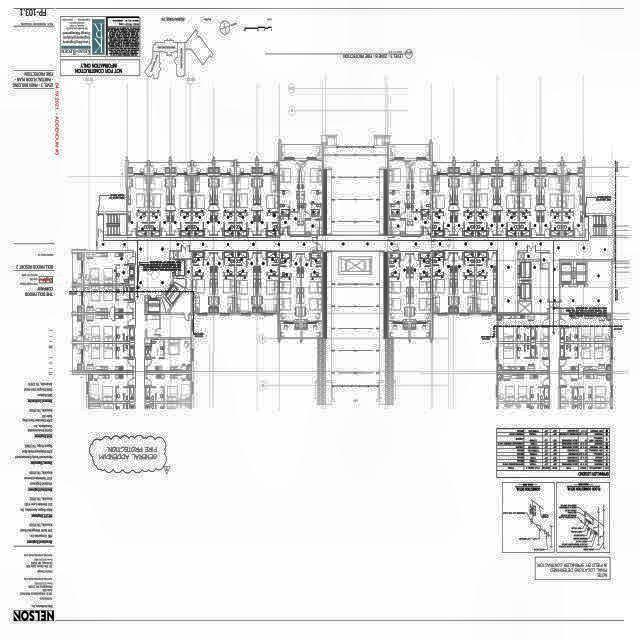room: (84, 252, 133, 284), (147, 339, 192, 370), (83, 315, 133, 342), (280, 254, 300, 321), (302, 254, 322, 321), (83, 344, 133, 370), (214, 253, 235, 313), (258, 253, 279, 313), (149, 176, 170, 235), (258, 176, 279, 235), (88, 374, 133, 401), (147, 374, 192, 401), (193, 253, 213, 313), (236, 253, 256, 313), (128, 176, 148, 235), (171, 176, 191, 235), (193, 176, 213, 235), (236, 176, 256, 235), (215, 177, 235, 235), (83, 292, 134, 313), (281, 145, 322, 158), (306, 204, 322, 235), (116, 266, 134, 284), (146, 339, 163, 357), (147, 315, 160, 337), (149, 213, 160, 236), (268, 213, 279, 236), (224, 252, 235, 275), (268, 252, 279, 275), (116, 328, 134, 342), (116, 343, 134, 357), (214, 161, 234, 173), (116, 388, 134, 401), (138, 213, 148, 236), (181, 213, 191, 236), (193, 252, 203, 275), (280, 253, 290, 276), (312, 253, 322, 276), (146, 388, 163, 401), (128, 163, 148, 173), (171, 163, 191, 173), (236, 163, 256, 173), (258, 163, 278, 173), (150, 163, 169, 173), (193, 163, 212, 173), (224, 213, 235, 230), (236, 213, 247, 230), (193, 213, 203, 230), (392, 221, 405, 234), (236, 252, 246, 264), (236, 266, 246, 275)
